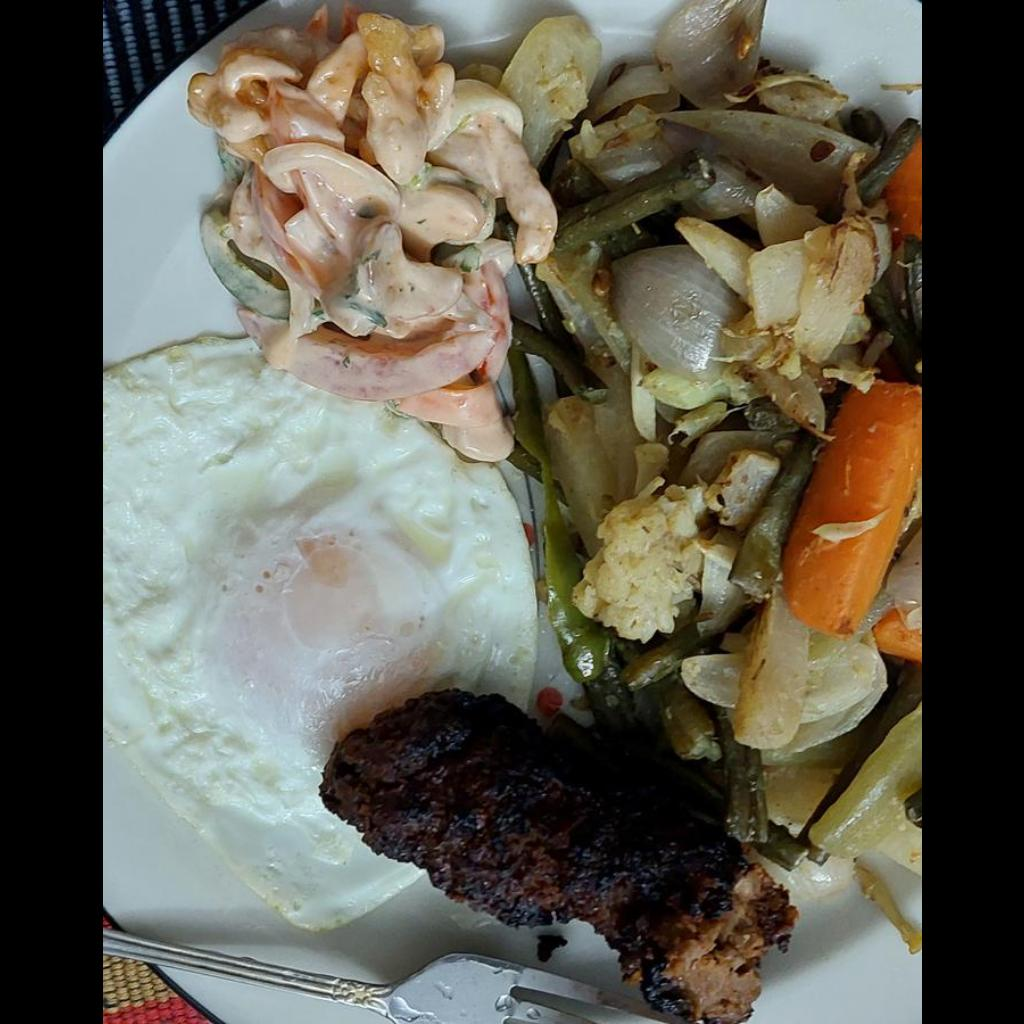egg-poached: (102, 337, 537, 929)
kabab: (321, 687, 801, 1022)
salad: (184, 9, 547, 461)
vegetable: (503, 0, 920, 885)
